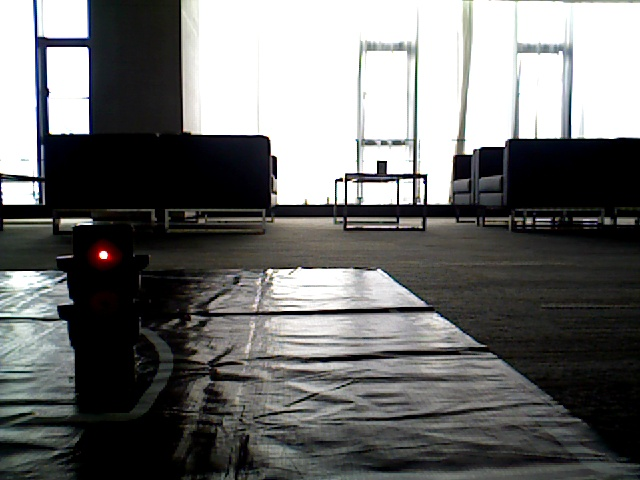red: (71, 226, 139, 359)
